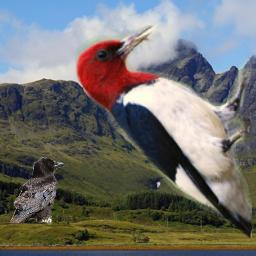Crow: (9, 157, 67, 223)
Woodpecker: (73, 25, 252, 238)
